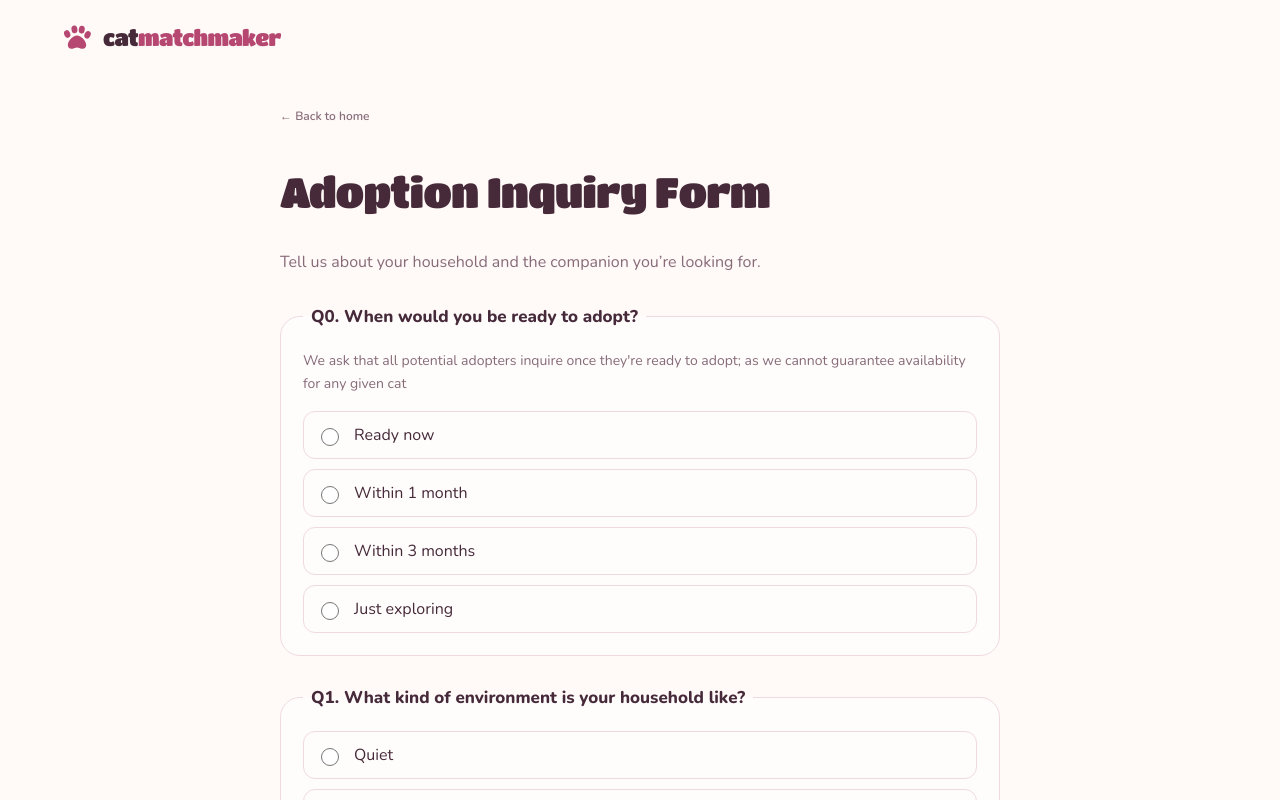
Test: guest adopter quiz › offers approved choices starting with Quiet
Click the radio button labelled "Quiet". click: (330, 757)
box: x1=321 y1=748 x2=339 y2=766
(page scrolled)
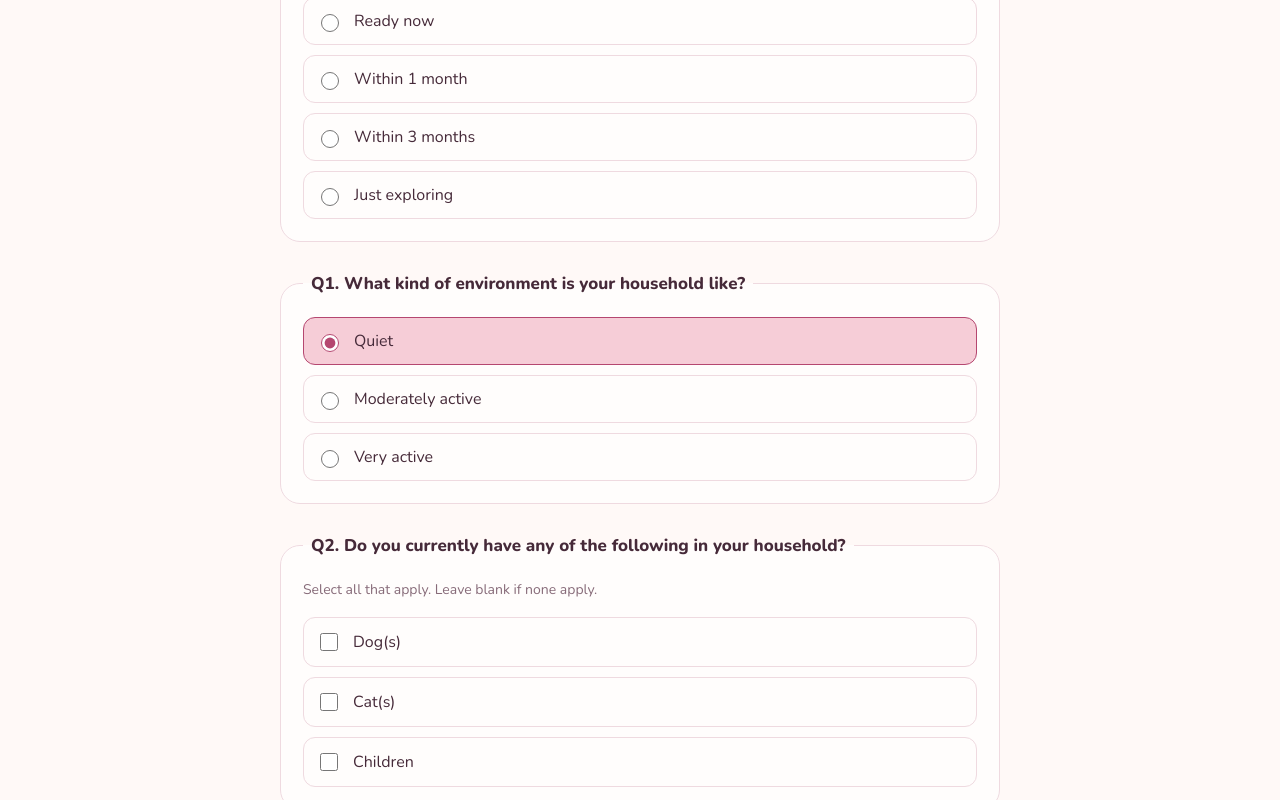
Expected: the radio button labelled "Very active" is not checked, x1=321 y1=450 x2=339 y2=468
Expected: the radio button labelled "Quiet" is checked, x1=321 y1=334 x2=339 y2=352
Click the radio button labelled "Moderately active". click: (330, 401)
box: x1=321 y1=392 x2=339 y2=410
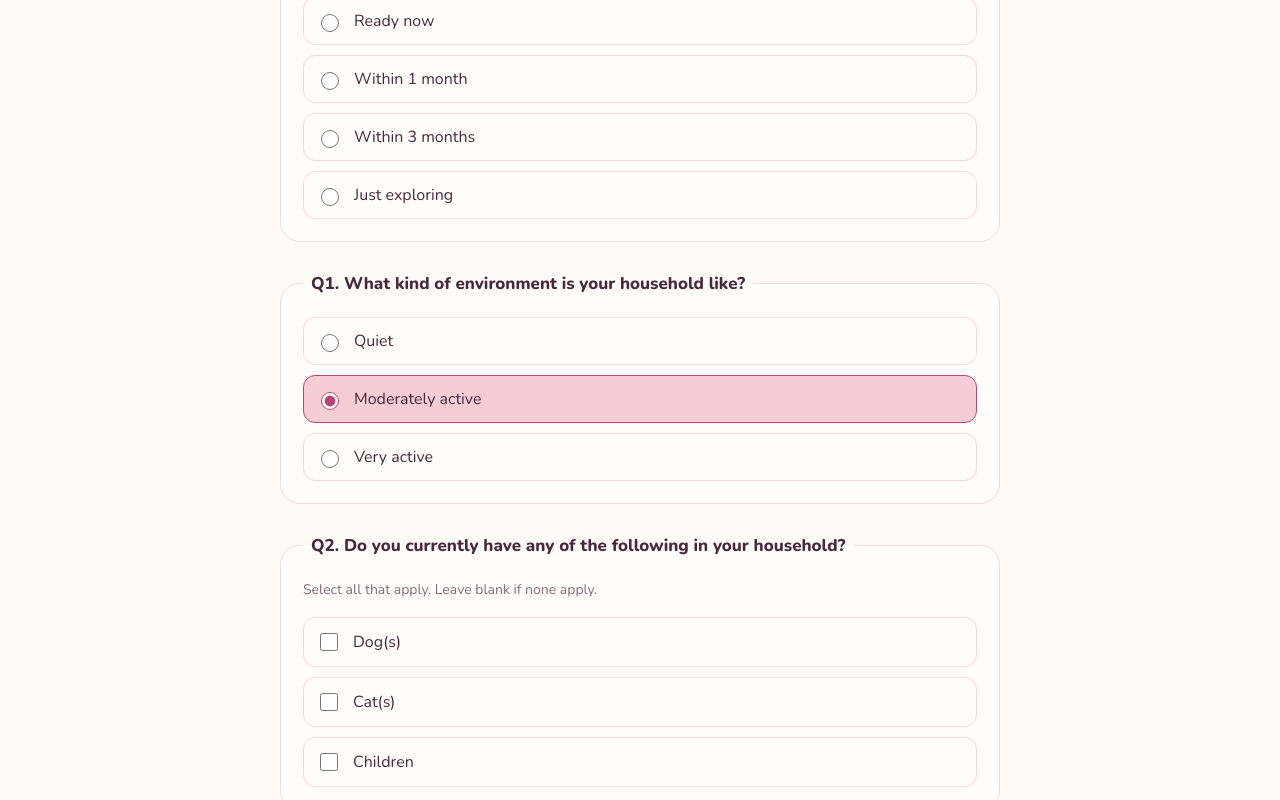
Expected: the radio button labelled "Moderately active" is checked, x1=321 y1=392 x2=339 y2=410
Expected: the radio button labelled "Quiet" is not checked, x1=321 y1=334 x2=339 y2=352
Click the radio button labelled "Very active". click: (330, 459)
box: x1=321 y1=450 x2=339 y2=468
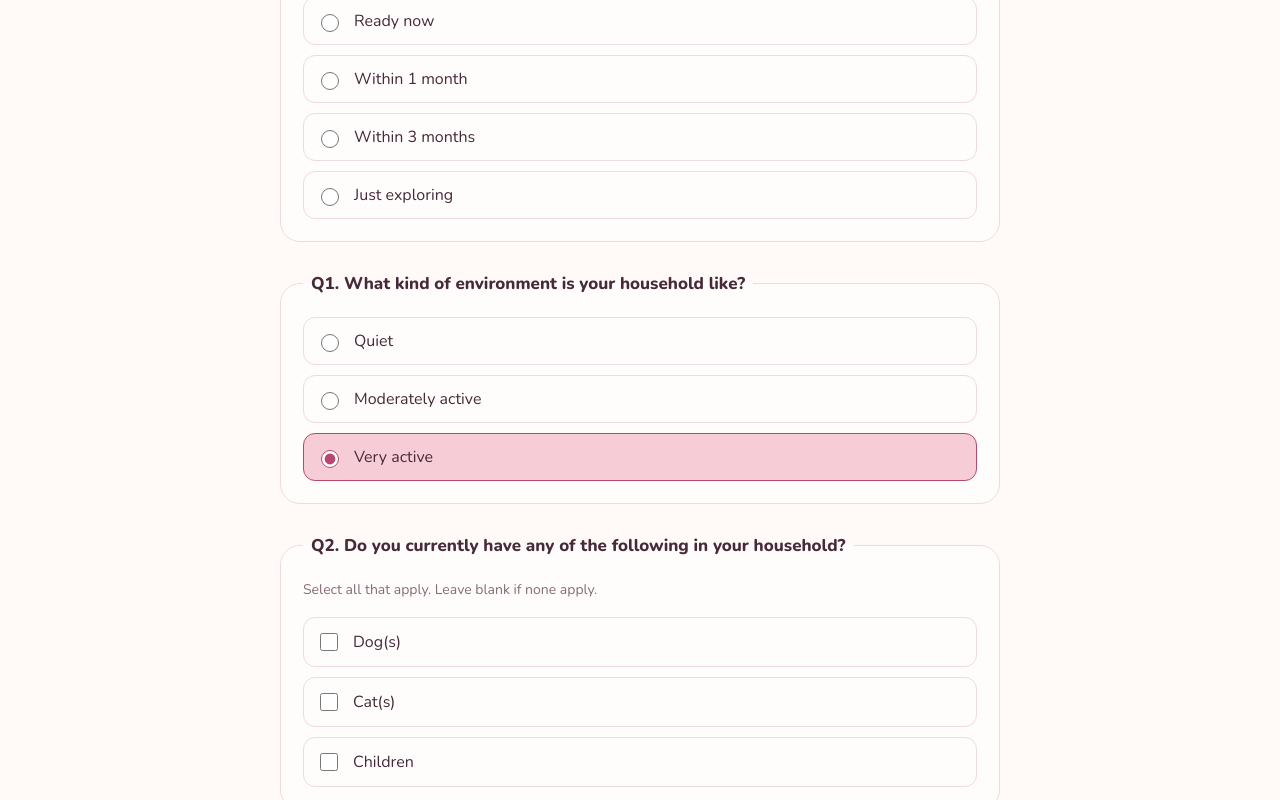
Expected: the radio button labelled "Very active" is checked, x1=321 y1=450 x2=339 y2=468
Expected: the radio button labelled "Quiet" is not checked, x1=321 y1=334 x2=339 y2=352
Expected: the radio button labelled "Moderately active" is not checked, x1=321 y1=392 x2=339 y2=410
